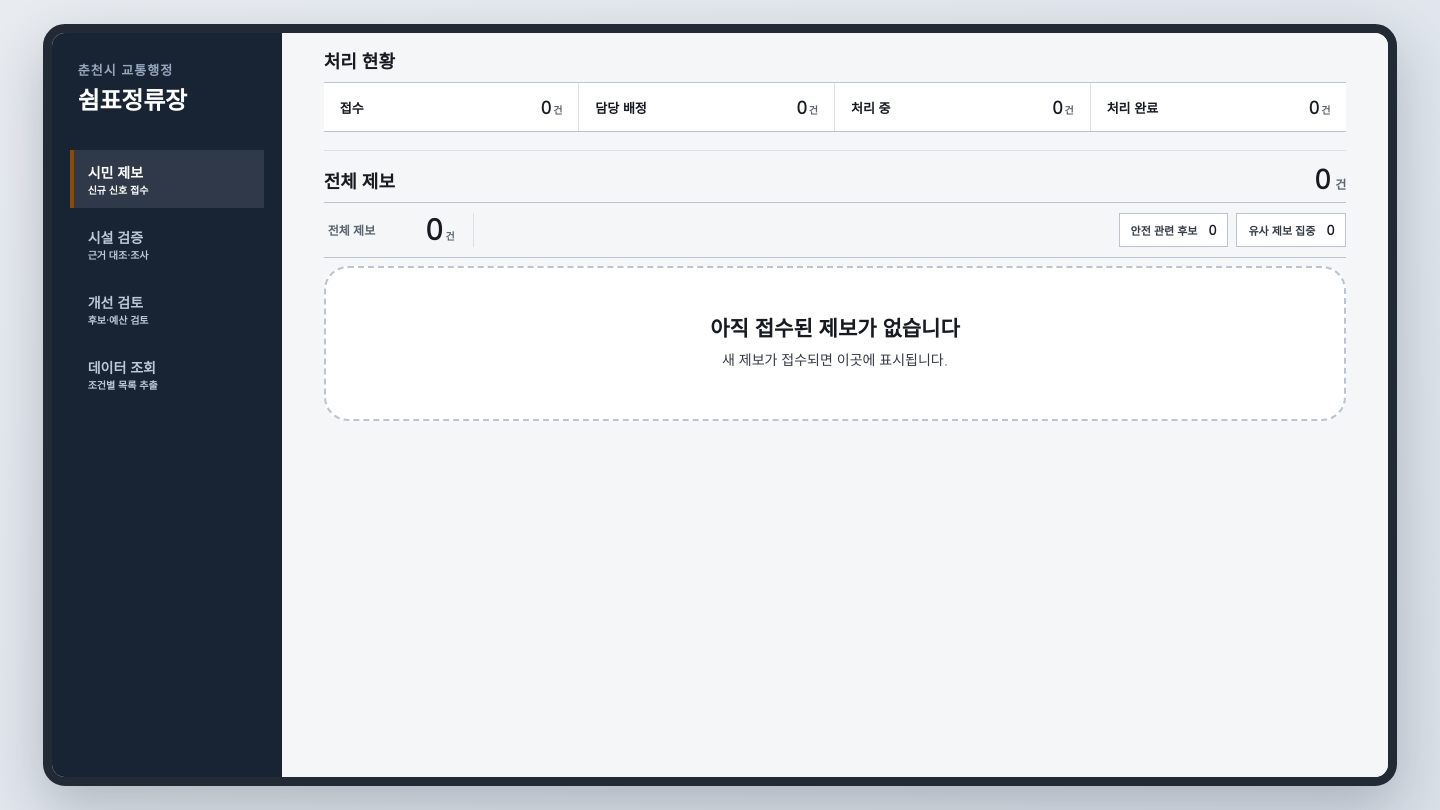
<Dashboard> — 조건 필터 탭(v1 보존) › (g) 기본(여름 프리셋)에서 조건 만족 정류장을 표에 렌더한다
Click the tab with aria-label "데이터 분석" at x=167, y=374, box [70,345,264,403]
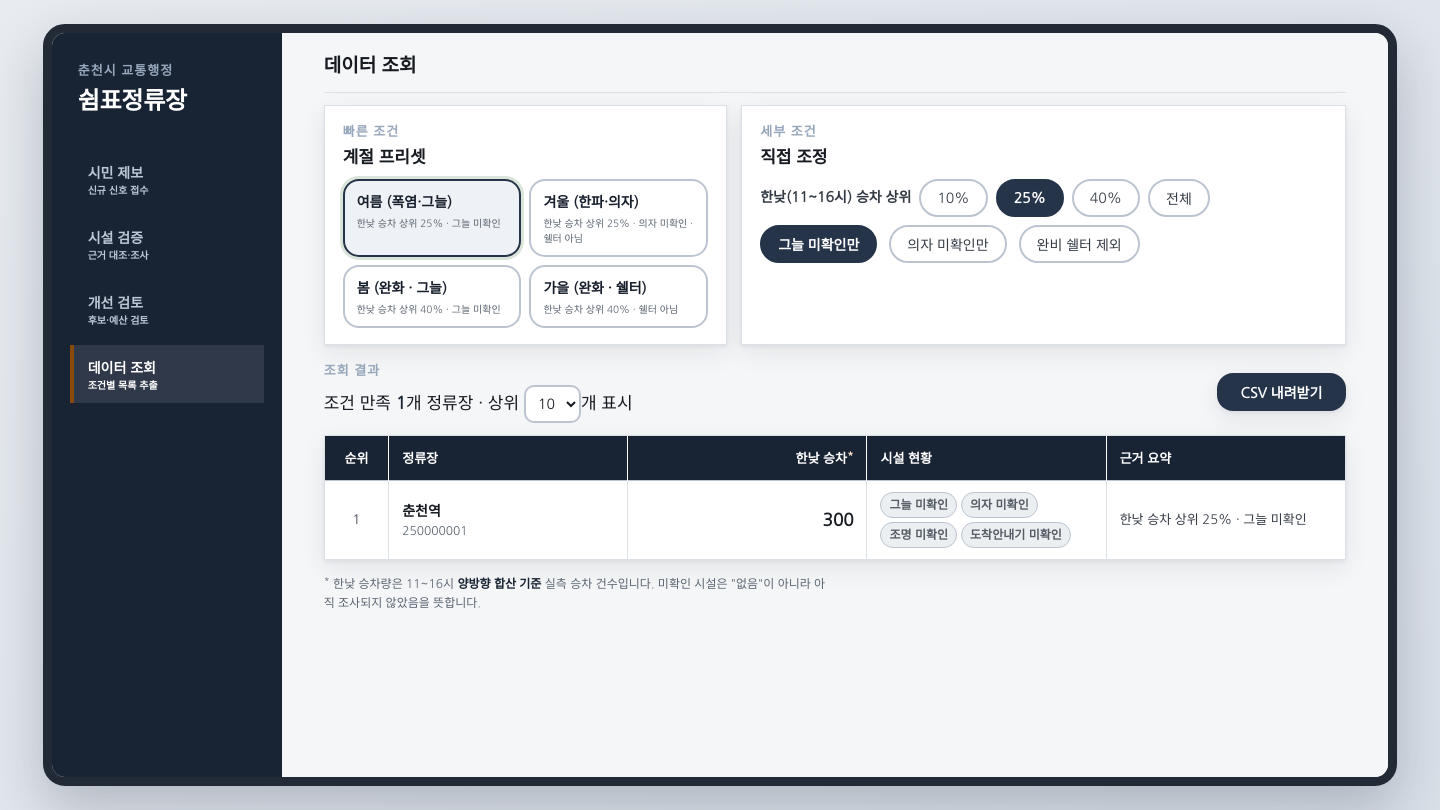
Expected: the text "춘천역" is shown, [402,504,441,518]
